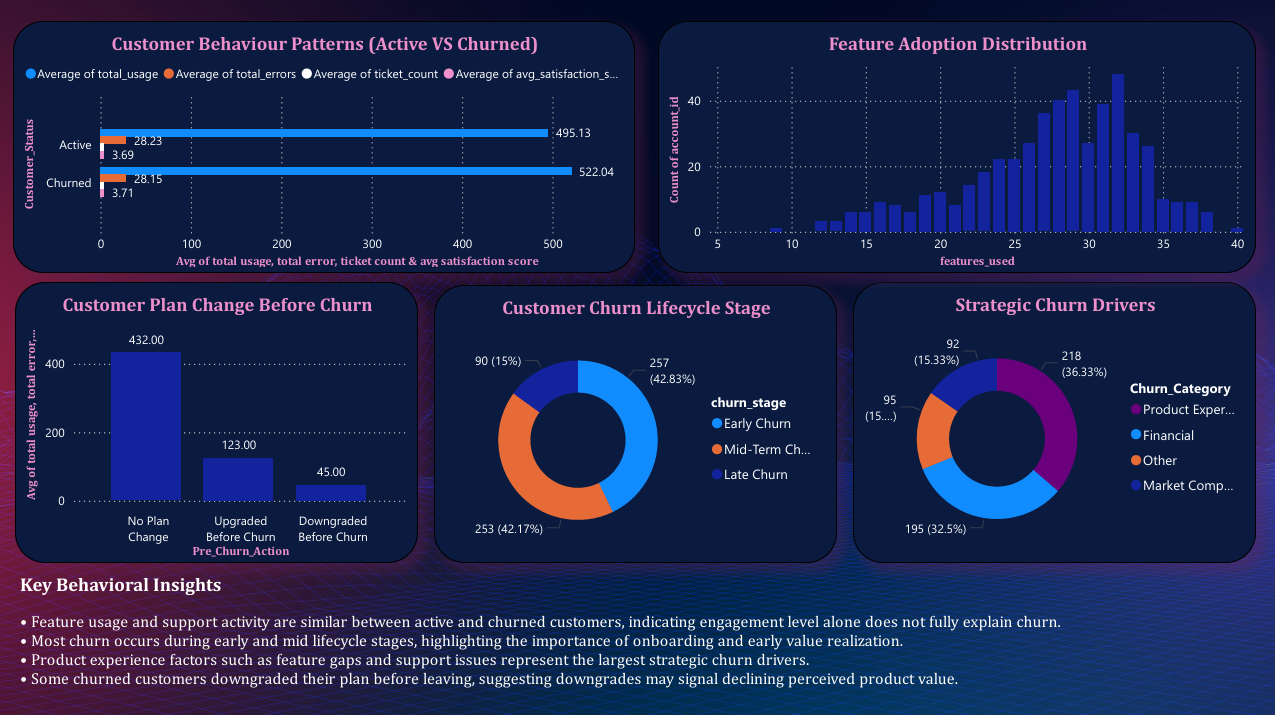

Layout of this report page (visuals, bound fields, positions):
{"tool":"powerbi","page":{"name":"Customer Behavior & Churn Drivers","canvas":[1280,720],"ordinal":1},"visuals":[{"type":"clusteredBarChart","title":"Customer Behaviour Patterns (Active VS Churned)","fields":{"Category":["account_feature_summary.Customer_Status"],"Y":["Avg(account_feature_summary.total_usage)","Avg(account_feature_summary.total_errors)","Avg(account_feature_summary.ticket_count)","Avg(account_feature_summary.avg_satisfaction_score)"]},"box":[14.5,67.4,621.7,239.2],"z":0},{"type":"donutChart","title":"Customer Churn Lifecycle Stage","fields":{"Category":["ravenstack_analytics vw_churn_lifecycle.churn_stage"],"Y":["CountNonNull(ravenstack_analytics vw_churn_lifecycle.account_id)"]},"box":[436.4,311.8,402.2,269.5],"z":1000},{"type":"donutChart","title":"Strategic Churn Drivers","fields":{"Y":["CountNonNull(ravenstack_analytics churn_events.churn_event_id)"],"Category":["ravenstack_analytics churn_events.Churn_Category"]},"box":[855.7,311.8,402.2,269.5],"z":2000},{"type":"columnChart","title":"Feature Adoption Distribution","fields":{"Category":["account_feature_summary.features_used"],"Y":["CountNonNull(account_feature_summary.account_id)"]},"box":[659.9,67.4,598.1,239.2],"z":3000},{"type":"clusteredColumnChart","title":"Customer Plan Change Before Churn","fields":{"Category":["ravenstack_analytics churn_events.Pre_Churn_Action"],"Y":["CountNonNull(ravenstack_analytics churn_events.churn_event_id)"]},"box":[17.1,311.8,402.2,269.5],"z":4000},{"type":"textbox","box":[17.1,576.7,1242.1,143.3],"z":5000},{"type":"textbox","box":[24.1,13.9,1219.5,58.3],"z":6000}]}

Visuals, with their boxes in screenshot pixels (x1, y1, x2, y2), scaled from the page's 1280x720 canvas onto the 1275x715 screenshot:
"Customer Behaviour Patterns (Active VS Churned)" clusteredBarChart: {"left": 14, "top": 67, "right": 634, "bottom": 304}
"Customer Churn Lifecycle Stage" donutChart: {"left": 435, "top": 310, "right": 835, "bottom": 577}
"Strategic Churn Drivers" donutChart: {"left": 852, "top": 310, "right": 1253, "bottom": 577}
"Feature Adoption Distribution" columnChart: {"left": 657, "top": 67, "right": 1253, "bottom": 304}
"Customer Plan Change Before Churn" clusteredColumnChart: {"left": 17, "top": 310, "right": 418, "bottom": 577}
textbox: {"left": 17, "top": 573, "right": 1254, "bottom": 714}
textbox: {"left": 24, "top": 14, "right": 1239, "bottom": 72}
